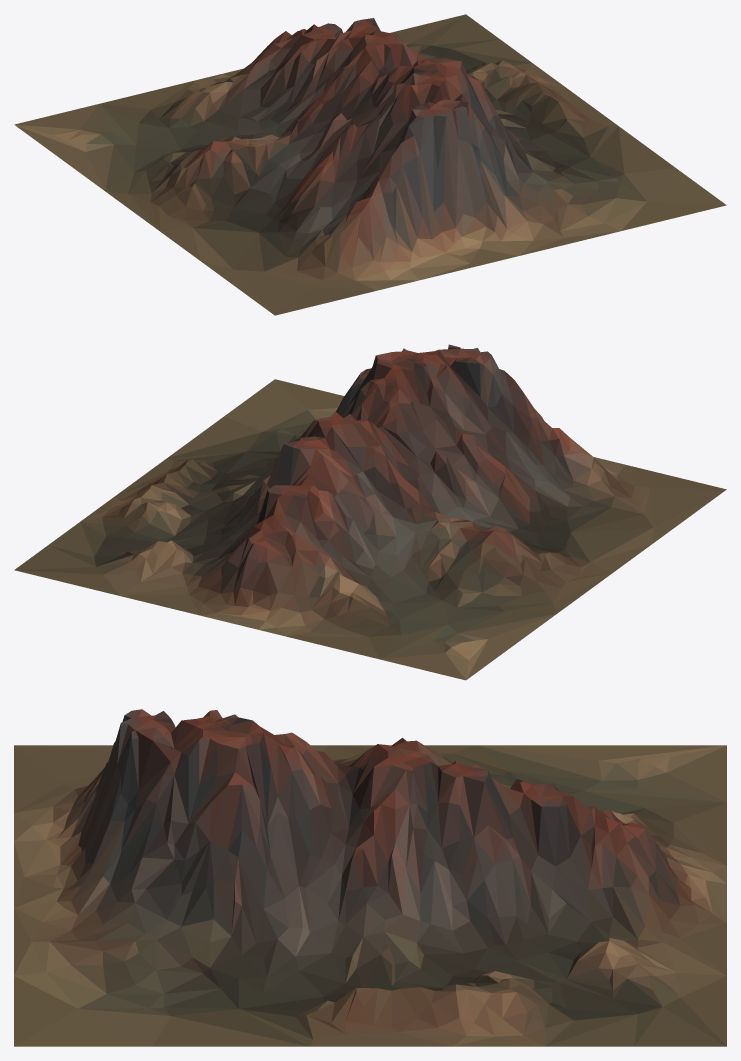
The model's file is Dry-Rocky_D.fbx.
The picture shows the model from 3 angles, top to bottom: view 1: azimuth 30°, elevation 25°; view 2: azimuth 150°, elevation 25°; view 3: azimuth 270°, elevation 25°; orthographic projection. The views are drawn at different scales.
Visible parts, largest first — view 1: Dry-Rocky_D; view 2: Dry-Rocky_D; view 3: Dry-Rocky_D.
Boxes of the visible parts, left/top/right/bottom form: Dry-Rocky_D: left=14, top=14, right=726, bottom=315; Dry-Rocky_D: left=14, top=344, right=726, bottom=680; Dry-Rocky_D: left=14, top=709, right=726, bottom=1046.
Size of the model in its own units: 10000 by 2742 by 10000.
